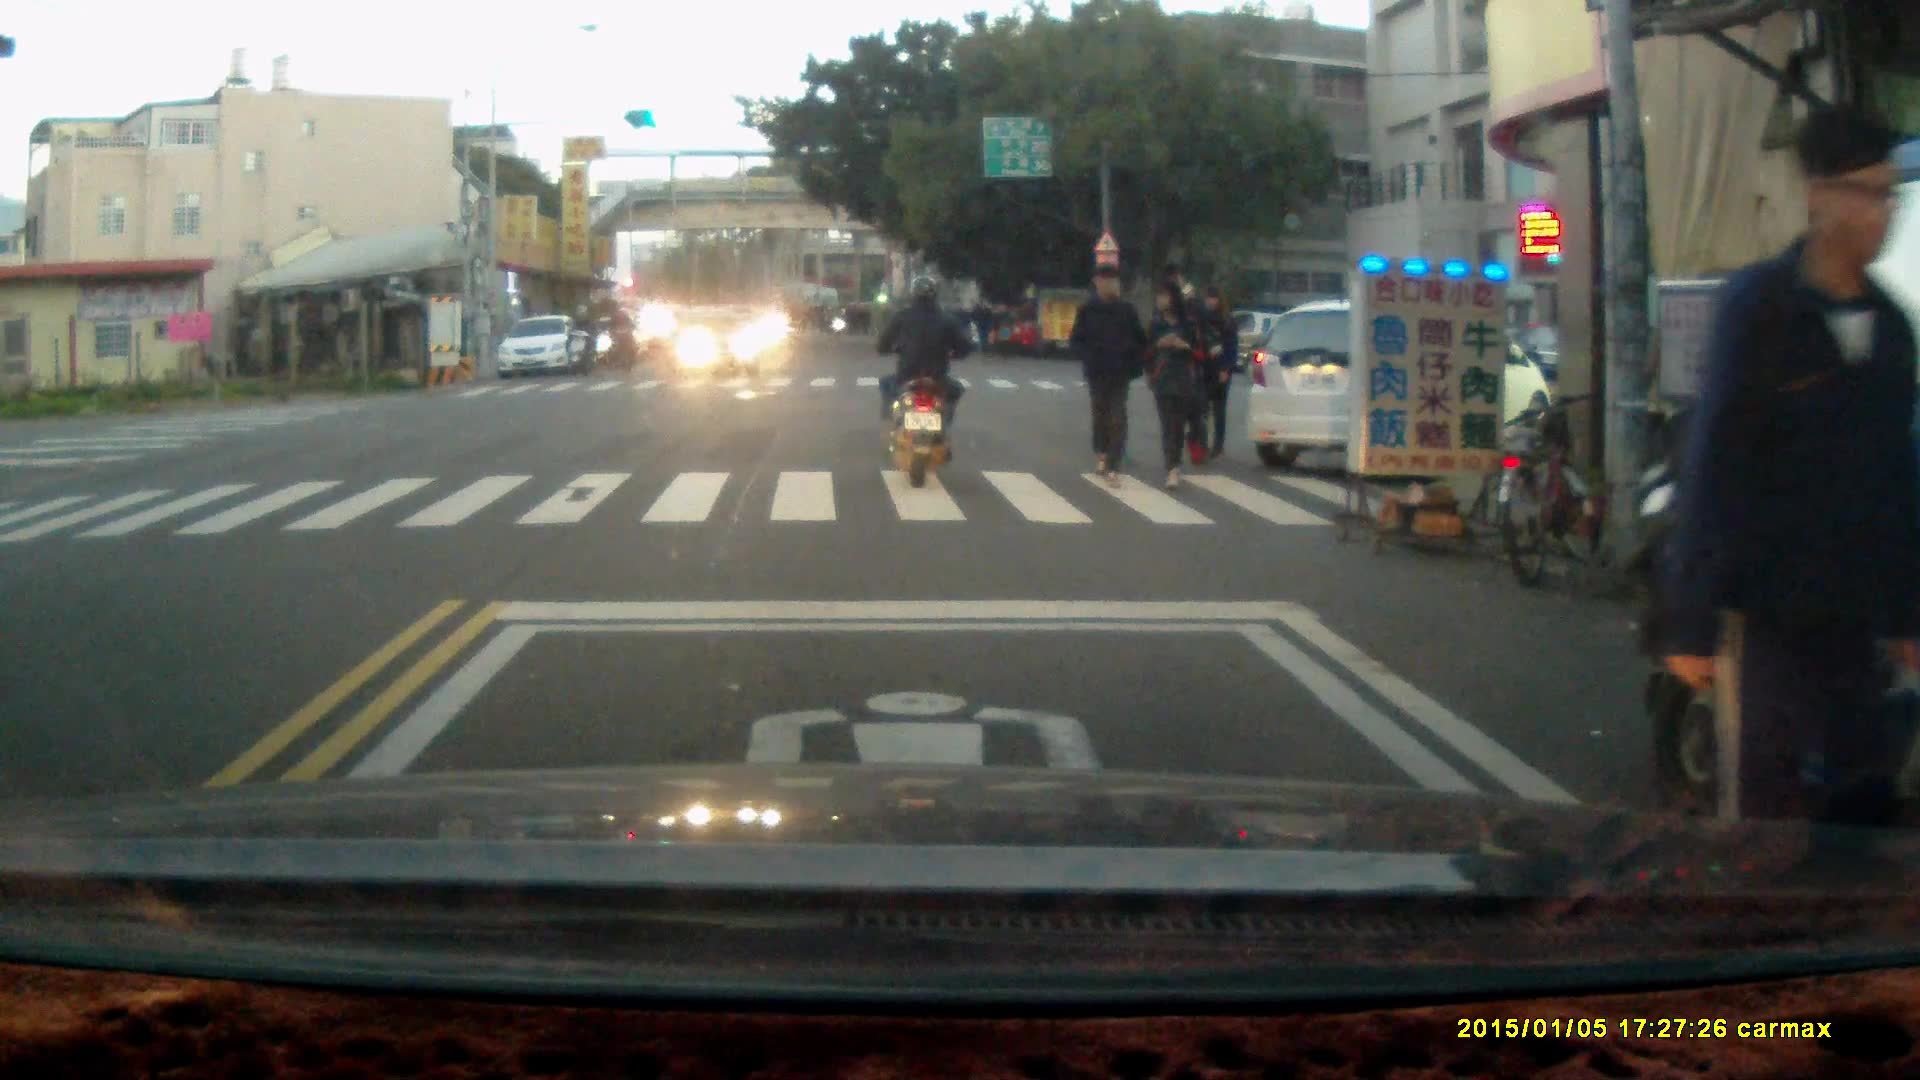pedestrian: (1666, 106, 1896, 874), (1068, 259, 1144, 486), (1142, 274, 1209, 487), (1196, 283, 1246, 464)
rider: (876, 268, 974, 487), (564, 300, 595, 376), (606, 300, 637, 371)
vehicle: (1248, 303, 1560, 470), (660, 311, 765, 381), (500, 310, 592, 376)
